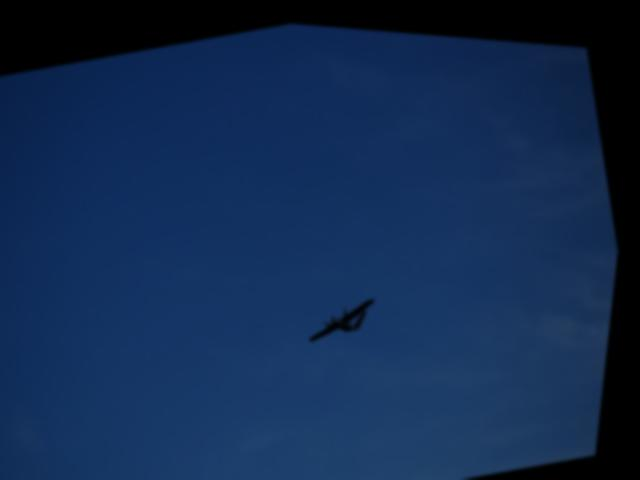plane: (305, 285, 390, 342)
